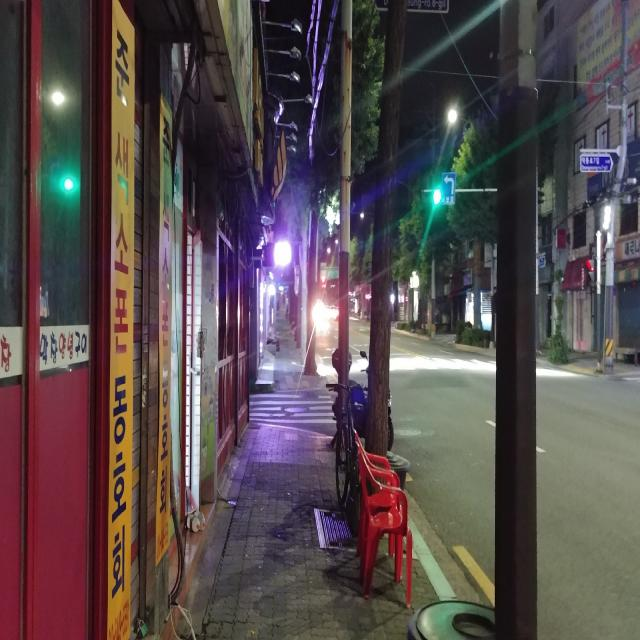횡단보도: (248, 394, 338, 424)
